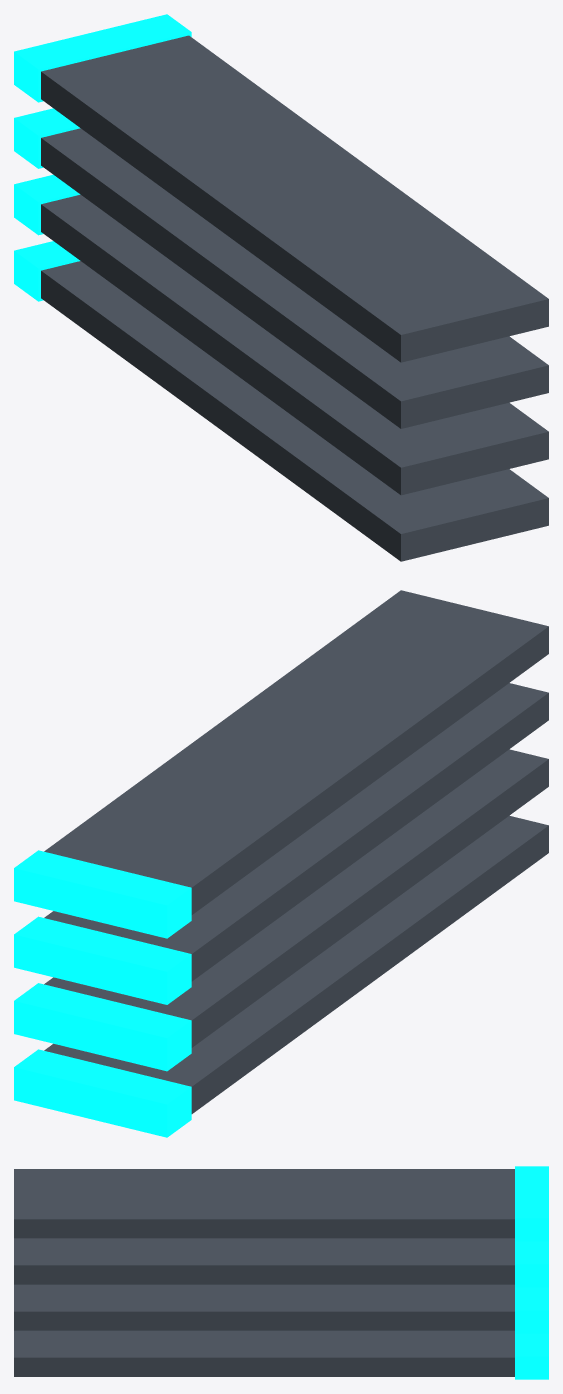
Rendered from ram_ddr5.glb.
3 renders of one model, top to bottom at view 1: azimuth 30°, elevation 25°; view 2: azimuth 150°, elevation 25°; view 3: azimuth 270°, elevation 25°, orthographic. The views are drawn at different scales.
Visible parts, largest first — view 1: RAM_Spreader_3, RAM_Spreader_1, RAM_Spreader_0, RAM_Spreader_2, RAM_RGB_3, RAM_RGB_0, RAM_RGB_2, RAM_RGB_1; view 2: RAM_Spreader_3, RAM_Spreader_0, RAM_Spreader_1, RAM_Spreader_2, RAM_RGB_2, RAM_RGB_0, RAM_RGB_3, RAM_RGB_1; view 3: RAM_Spreader_3, RAM_Spreader_0, RAM_Spreader_1, RAM_Spreader_2, RAM_RGB_3, RAM_RGB_0, RAM_RGB_1, RAM_RGB_2.
Part boxes in pixels (left/top/right/bottom): RAM_Spreader_3: left=41, top=35, right=548, bottom=362; RAM_Spreader_1: left=41, top=194, right=548, bottom=495; RAM_Spreader_0: left=41, top=261, right=548, bottom=561; RAM_Spreader_2: left=41, top=128, right=548, bottom=428; RAM_RGB_3: left=14, top=14, right=191, bottom=102; RAM_RGB_0: left=14, top=241, right=80, bottom=301; RAM_RGB_2: left=14, top=108, right=80, bottom=168; RAM_RGB_1: left=14, top=174, right=80, bottom=235; RAM_Spreader_3: left=44, top=590, right=548, bottom=914; RAM_Spreader_0: left=44, top=815, right=548, bottom=1113; RAM_Spreader_1: left=44, top=749, right=548, bottom=1047; RAM_Spreader_2: left=44, top=683, right=548, bottom=981; RAM_RGB_2: left=14, top=916, right=191, bottom=1004; RAM_RGB_0: left=14, top=1049, right=191, bottom=1137; RAM_RGB_3: left=14, top=850, right=191, bottom=938; RAM_RGB_1: left=14, top=983, right=191, bottom=1071; RAM_Spreader_3: left=14, top=1169, right=514, bottom=1238; RAM_Spreader_0: left=14, top=1330, right=514, bottom=1376; RAM_Spreader_1: left=14, top=1284, right=514, bottom=1330; RAM_Spreader_2: left=14, top=1238, right=514, bottom=1284; RAM_RGB_3: left=515, top=1166, right=548, bottom=1241; RAM_RGB_0: left=515, top=1333, right=548, bottom=1379; RAM_RGB_1: left=515, top=1287, right=548, bottom=1333; RAM_RGB_2: left=515, top=1241, right=548, bottom=1287.
Size of the model in its own units: 0.29 by 0.42 by 1.26.
